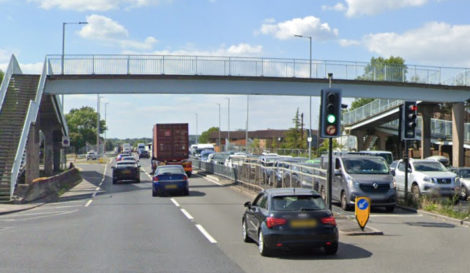bridge: (40, 52, 468, 104)
